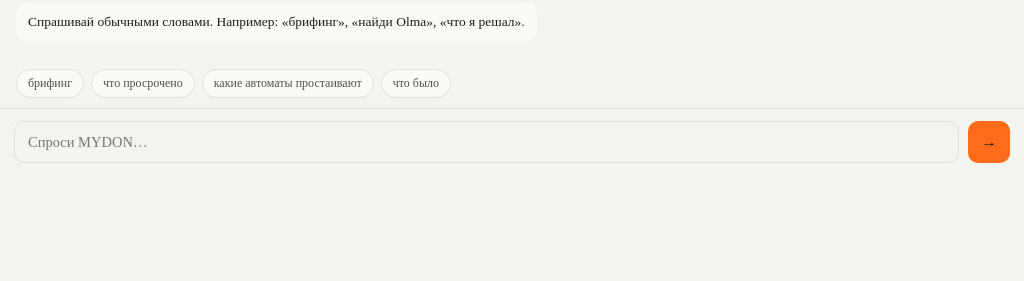
Test: чат помощника › показывает понятную ошибку при сетевом сбое
This screenshot has width=1024, height=281.
Step 1. Type "брифинг" into the field named "Вопрос помощнику" → (486, 142), box [14,121,959,163]
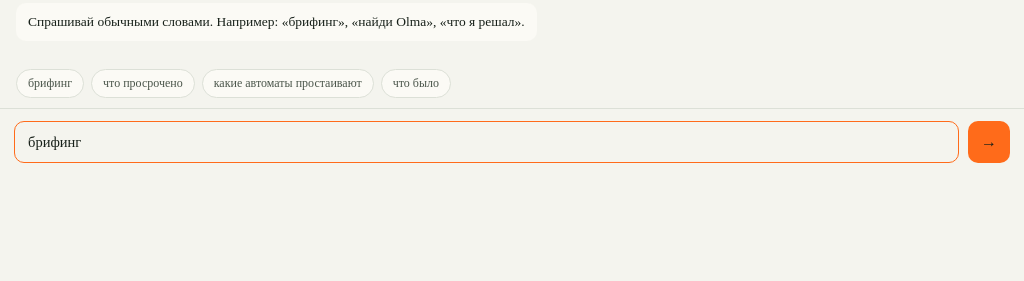
Step 2. Click the button "→" → (989, 142), box [968,121,1010,163]
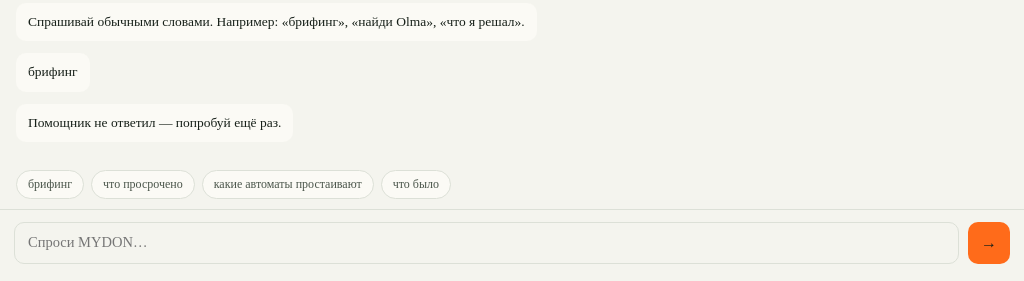
expect the text "Помощник не ответил — попробуй ещё раз." is shown: met, box [16,104,293,142]
